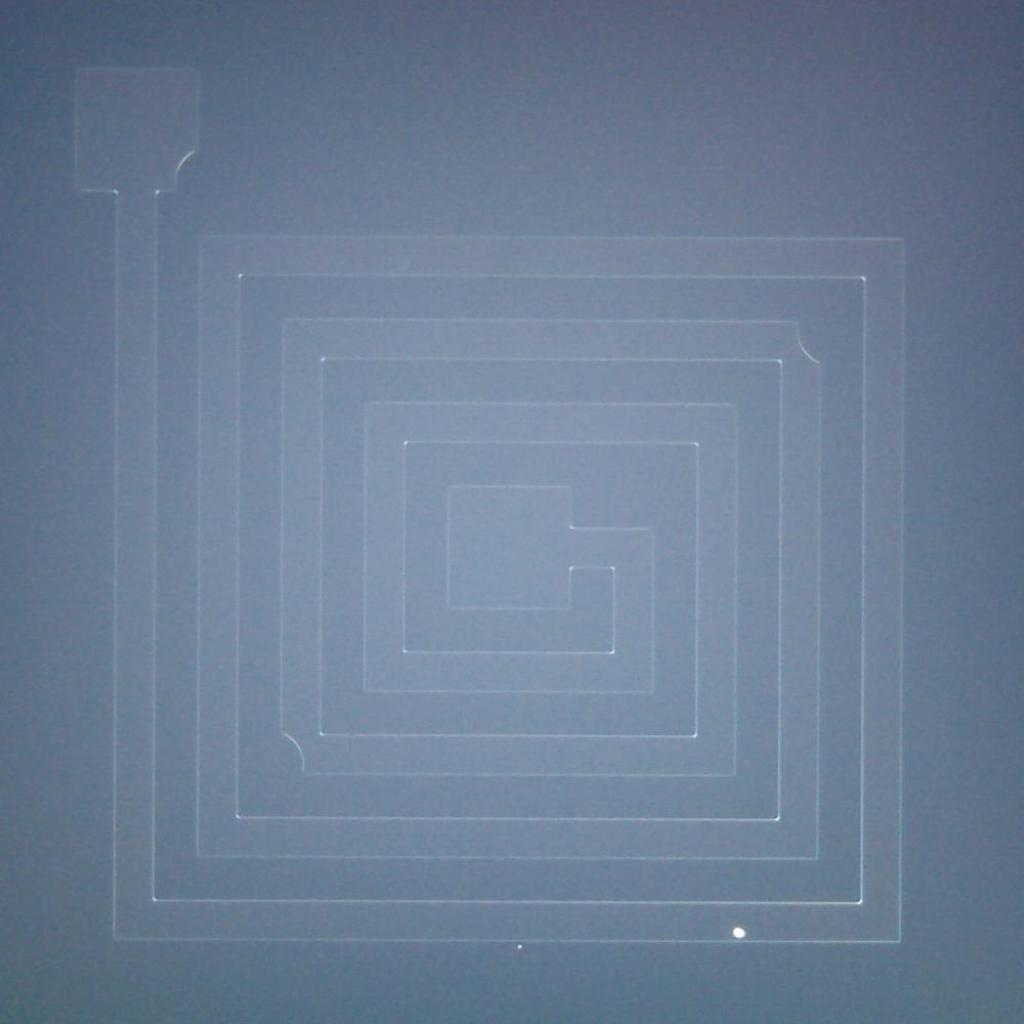dot: (733, 927, 745, 939), (517, 944, 522, 948)
